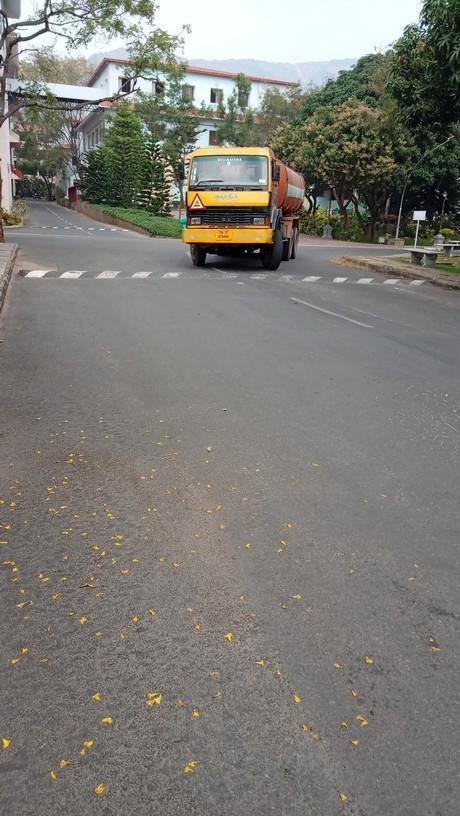speedbreaker: (8, 262, 435, 290)
